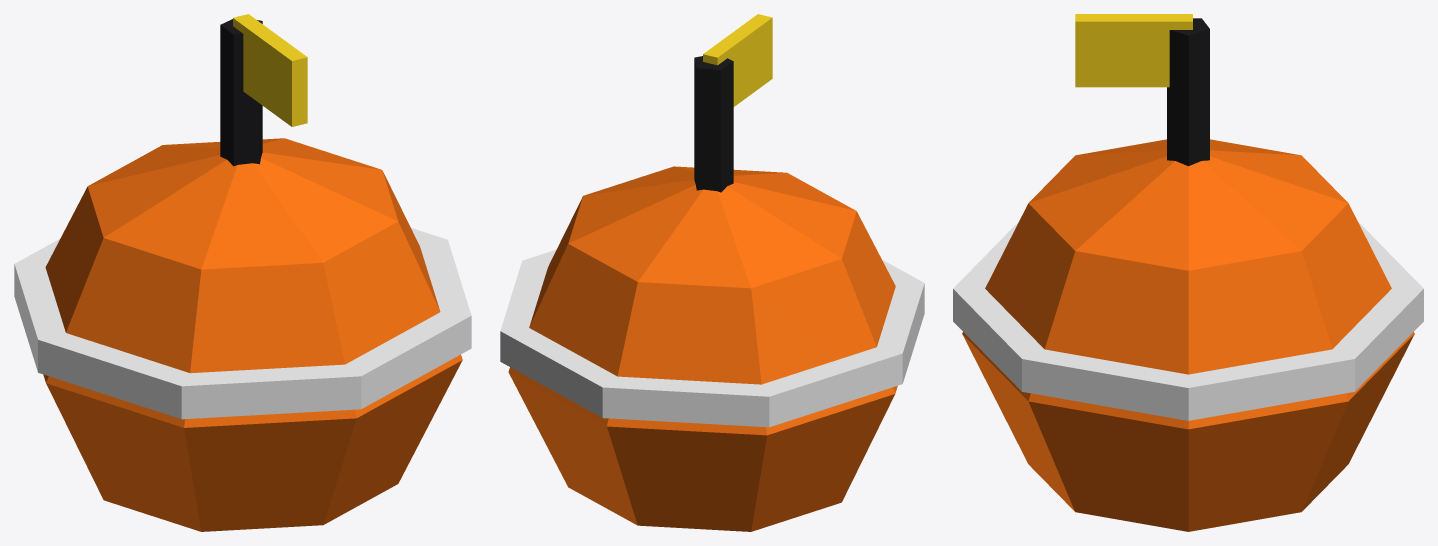
The model's file is boya_carrera.obj.
3 views of the same model, side by side, from view 1: azimuth 30°, elevation 25°; view 2: azimuth 150°, elevation 25°; view 3: azimuth 270°, elevation 25° (orthographic). The views are drawn at different scales.
Parts seen in each view (by area): view 1: boya_carrera; view 2: boya_carrera; view 3: boya_carrera.
Boxes of the visible parts, box(x1,y1,x2,y2) form: boya_carrera: box(14, 14, 471, 531); boya_carrera: box(500, 14, 924, 531); boya_carrera: box(953, 14, 1423, 531).
Size of the model in its own units: 1.04 by 1.22 by 1.04.
